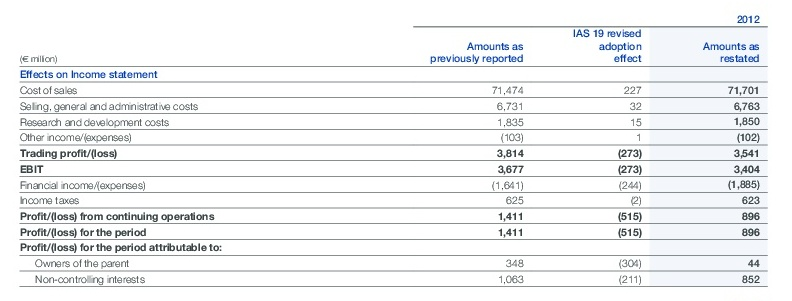table: (0, 0, 792, 301)
